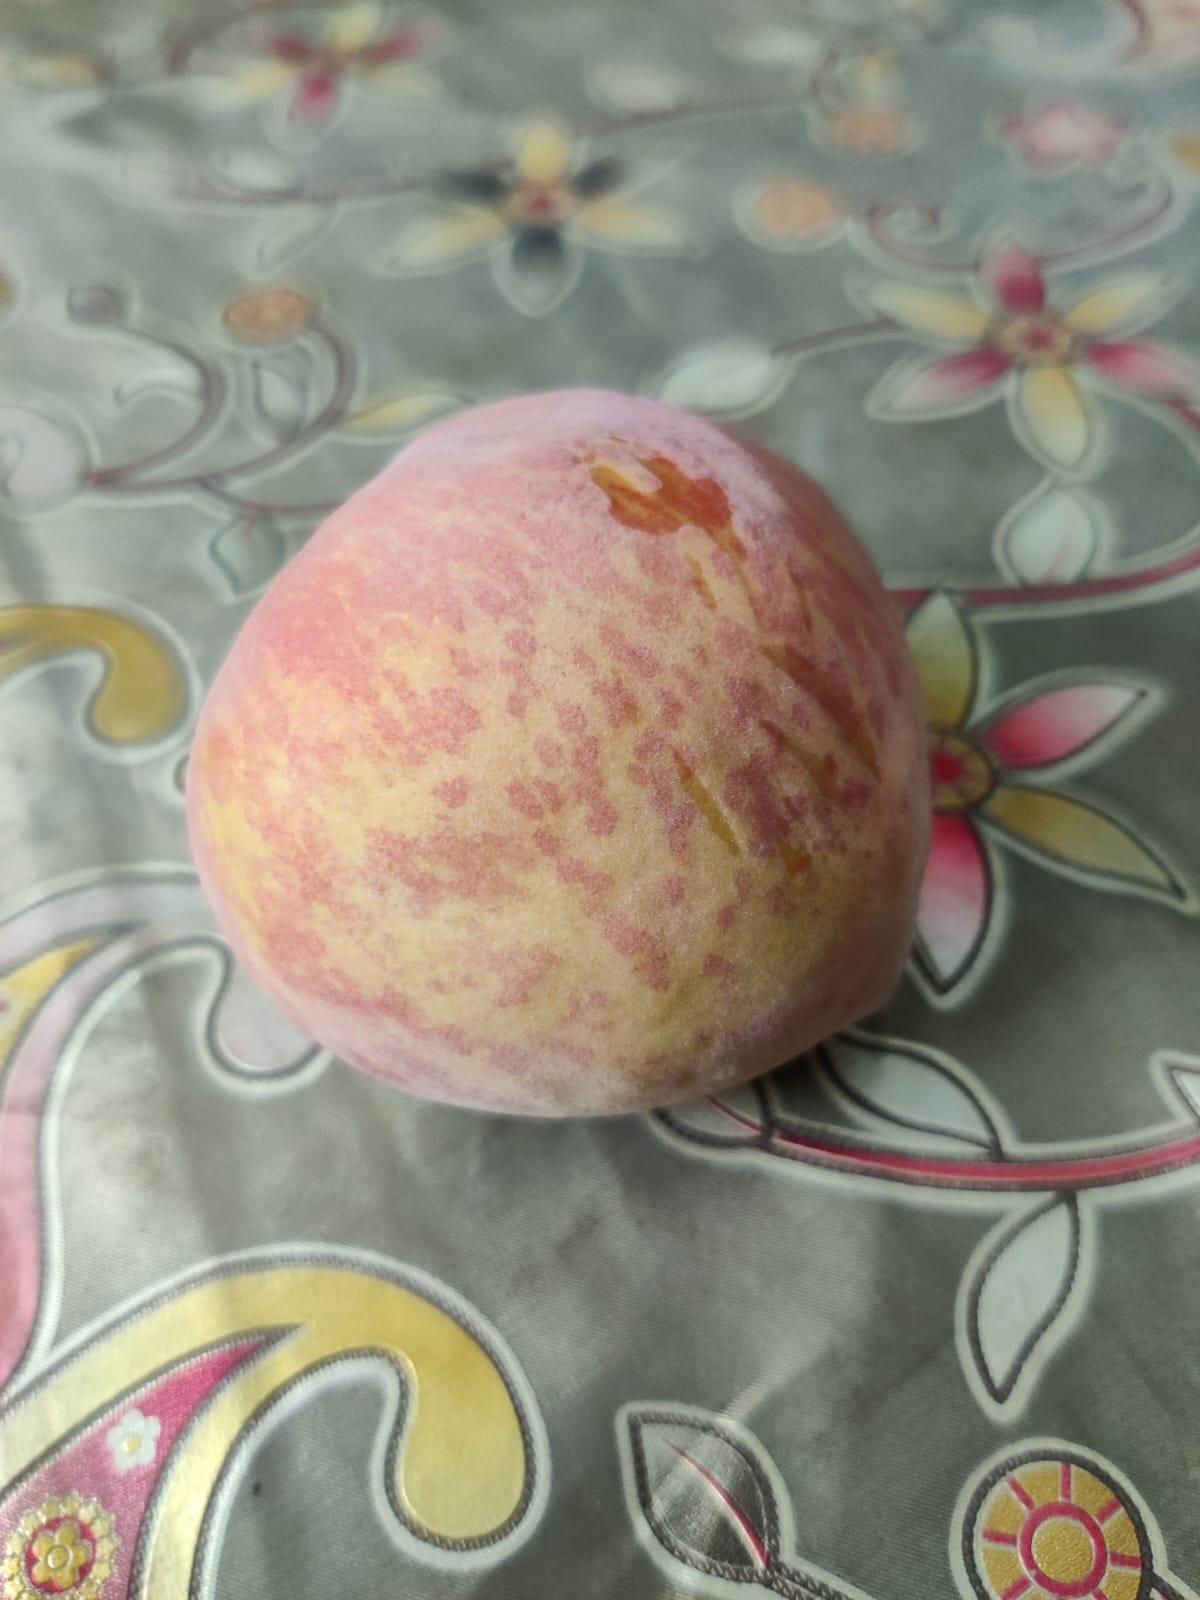non-mango: (180, 377, 937, 1107)
